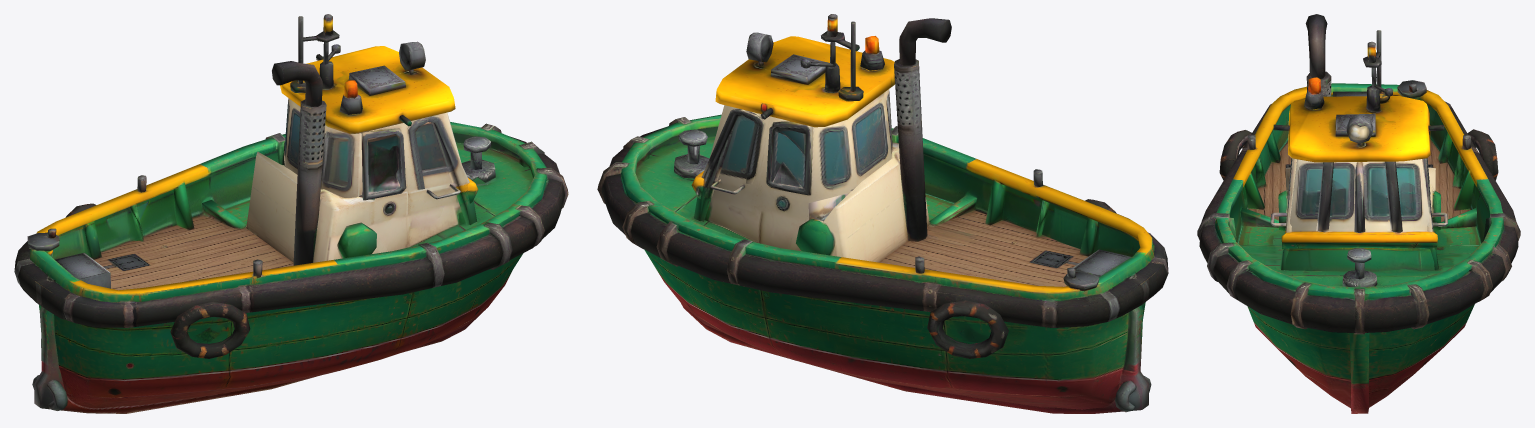
The picture shows the model from 3 angles, left to right: view 1: azimuth 30°, elevation 25°; view 2: azimuth 150°, elevation 25°; view 3: azimuth 270°, elevation 25°; orthographic projection. The views are drawn at different scales.
Size of the model in its own units: 1 by 0.668 by 0.5957.
1 material, 1 textured.
